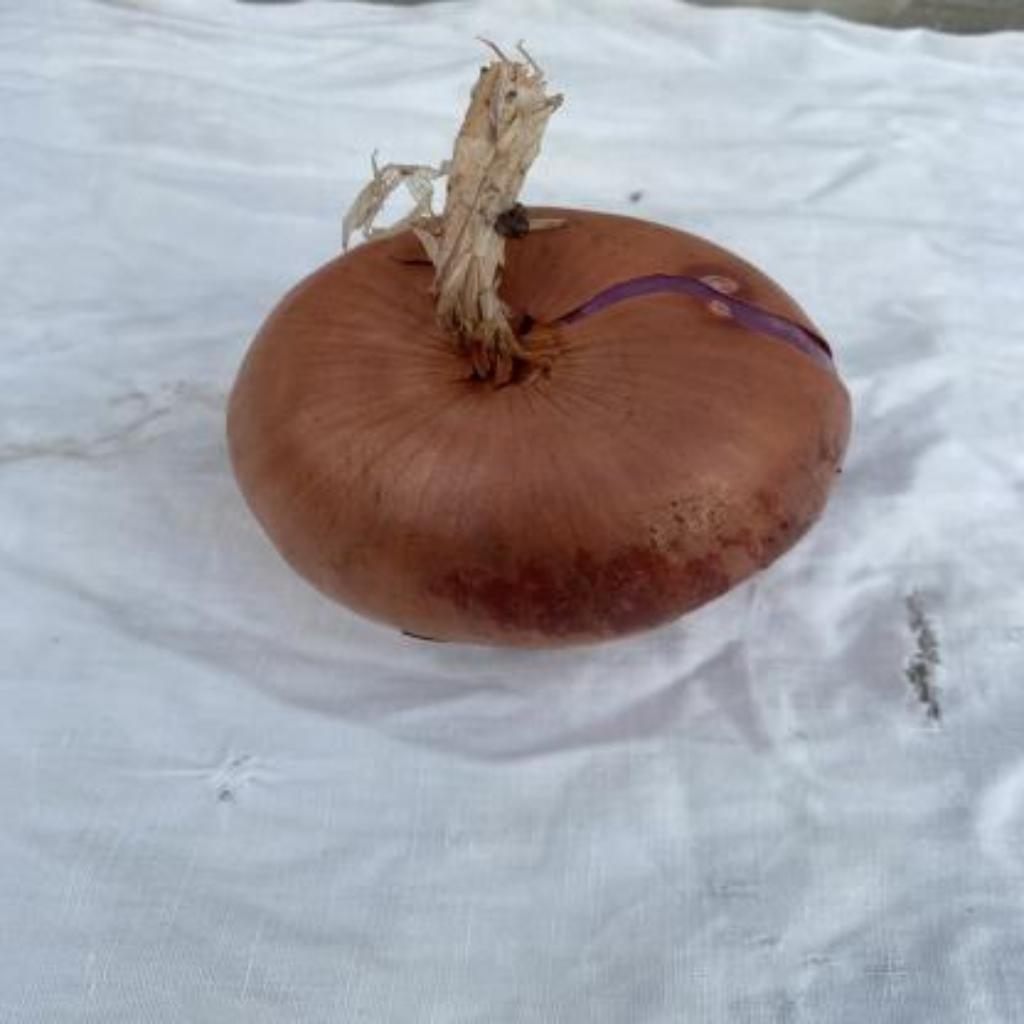Onion: (226, 42, 854, 646)
